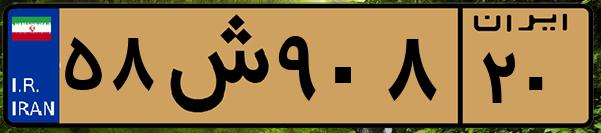0: (330, 28, 385, 110), (525, 38, 570, 115)
2: (475, 38, 525, 113)
5: (57, 26, 110, 100)
8: (385, 28, 445, 110), (110, 28, 158, 98)
9: (270, 28, 330, 110)
ش: (158, 12, 270, 120)
